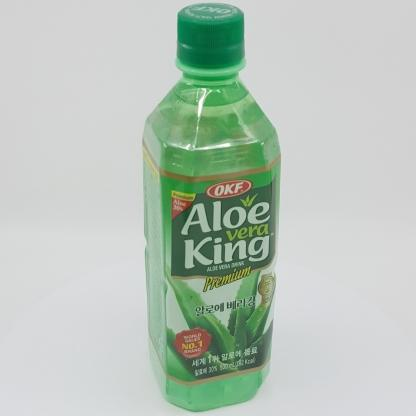------------500ml: (142, 3, 281, 412)
